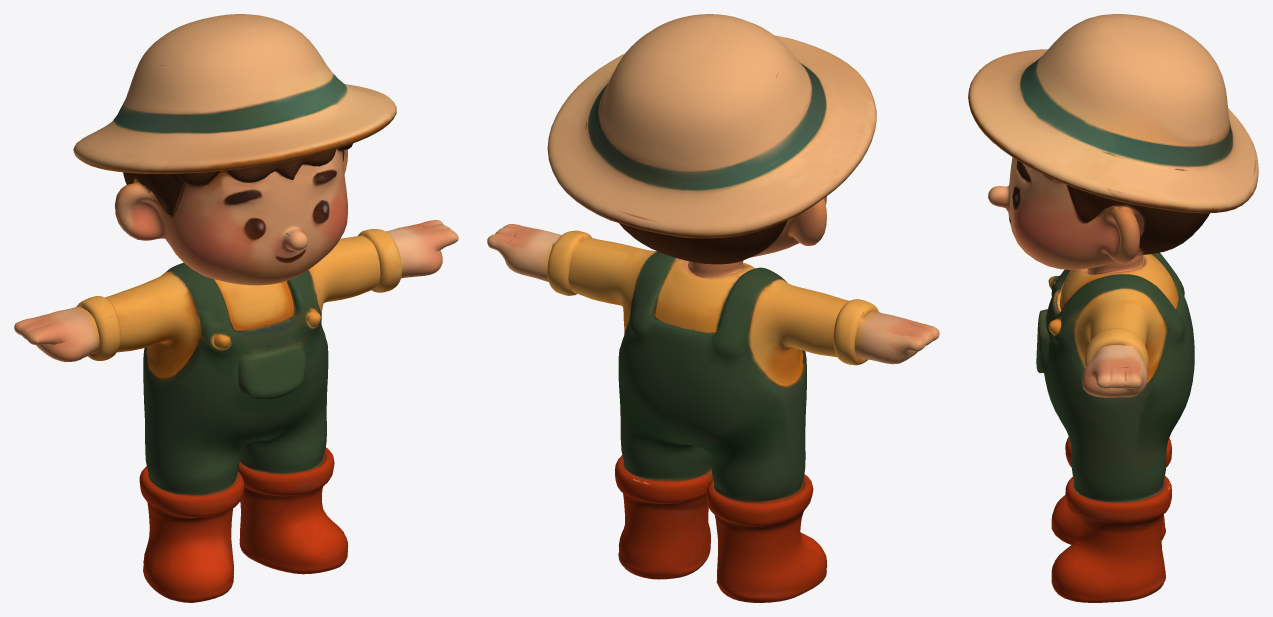
The model's file is PERSONAJEFINAL_poseT.fbx.
3 views of the same model, side by side, from view 1: azimuth 30°, elevation 25°; view 2: azimuth 150°, elevation 25°; view 3: azimuth 270°, elevation 25° (orthographic). The views are drawn at different scales.
Parts seen in each view (by area): view 1: Retopo_model.001; view 2: Retopo_model.001; view 3: Retopo_model.001.
Boxes of the visible parts, x1=… form: Retopo_model.001: x1=14, y1=14, x2=458, y2=602; Retopo_model.001: x1=487, y1=14, x2=939, y2=602; Retopo_model.001: x1=968, y1=14, x2=1258, y2=602.
Size of the model in its own units: 153 by 184 by 90.62.
1 material, 1 textured.
